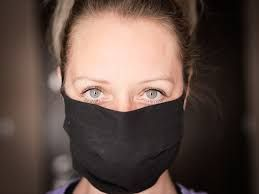with-mask: (56, 6, 197, 194)
